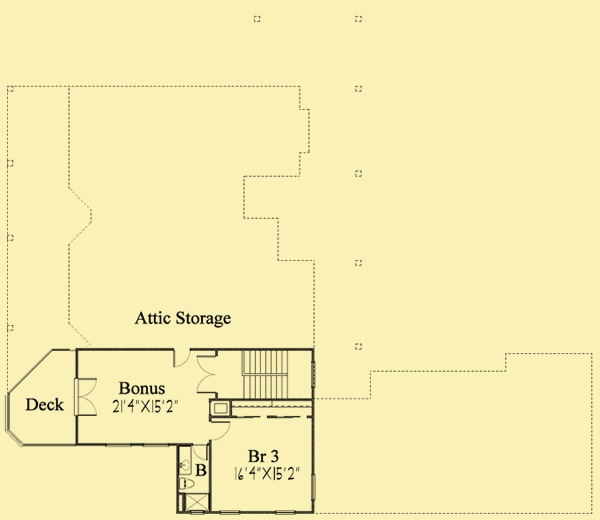door: (71, 375, 99, 420), (194, 353, 218, 397), (207, 418, 235, 441), (168, 345, 192, 370), (191, 441, 210, 463)
large sink: (178, 473, 198, 495)
small sink: (177, 445, 192, 476)
stairs: (238, 346, 315, 402)
windows: (101, 440, 138, 452), (308, 470, 319, 504), (140, 439, 171, 451), (214, 504, 247, 515), (273, 507, 297, 517)
